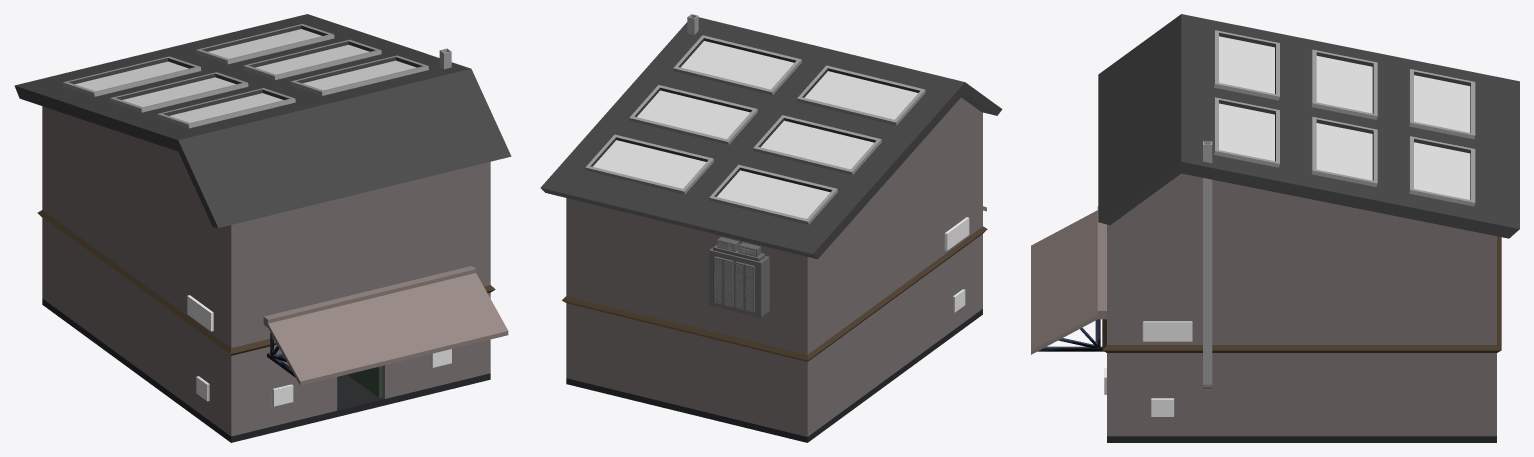
File: Home.fbx
The picture shows the model from 3 angles, left to right: view 1: azimuth 30°, elevation 25°; view 2: azimuth 150°, elevation 25°; view 3: azimuth 270°, elevation 25°; orthographic projection. The views are drawn at different scales.
Parts seen in each view (by area): view 1: Cube.030, Cube.013, Cube.006, Cube.001, Cube.029, Cube.003, CTRL_Hole.005; view 2: Cube.030, Cube.013, Cube.029, Cube.001, Cube.027, Cube, Cube.028, CTRL_Hole.005; view 3: Cube.030, Cube.013, Cube.006, Cube.029, Cube.001, Cube.018, CTRL_Hole.004, Cube.008.
Part boxes in pixels (x1,y1,x2,y2): Cube.030: (42, 106, 490, 436); Cube.013: (14, 14, 511, 227); Cube.006: (263, 266, 508, 385); Cube.001: (42, 298, 490, 442); Cube.029: (37, 210, 495, 355); Cube.003: (337, 366, 382, 407); CTRL_Hole.005: (187, 295, 213, 331); Cube.030: (566, 97, 982, 436); Cube.013: (540, 17, 1002, 259); Cube.029: (562, 226, 987, 361); Cube.001: (566, 309, 982, 442); Cube.027: (713, 256, 754, 312); Cube: (709, 244, 769, 317); Cube.028: (717, 237, 760, 257); CTRL_Hole.005: (944, 217, 969, 250); Cube.030: (1107, 173, 1496, 436); Cube.013: (1098, 14, 1519, 238); Cube.006: (1031, 206, 1106, 354); Cube.029: (1102, 236, 1501, 352); Cube.001: (1107, 436, 1496, 442); Cube.018: (1203, 141, 1212, 389); CTRL_Hole.004: (1143, 321, 1192, 341); Cube.008: (1037, 319, 1103, 351).
Size of the model in its own units: 7655 by 7289 by 10702.
Materials: 22 (4 with a texture image).
